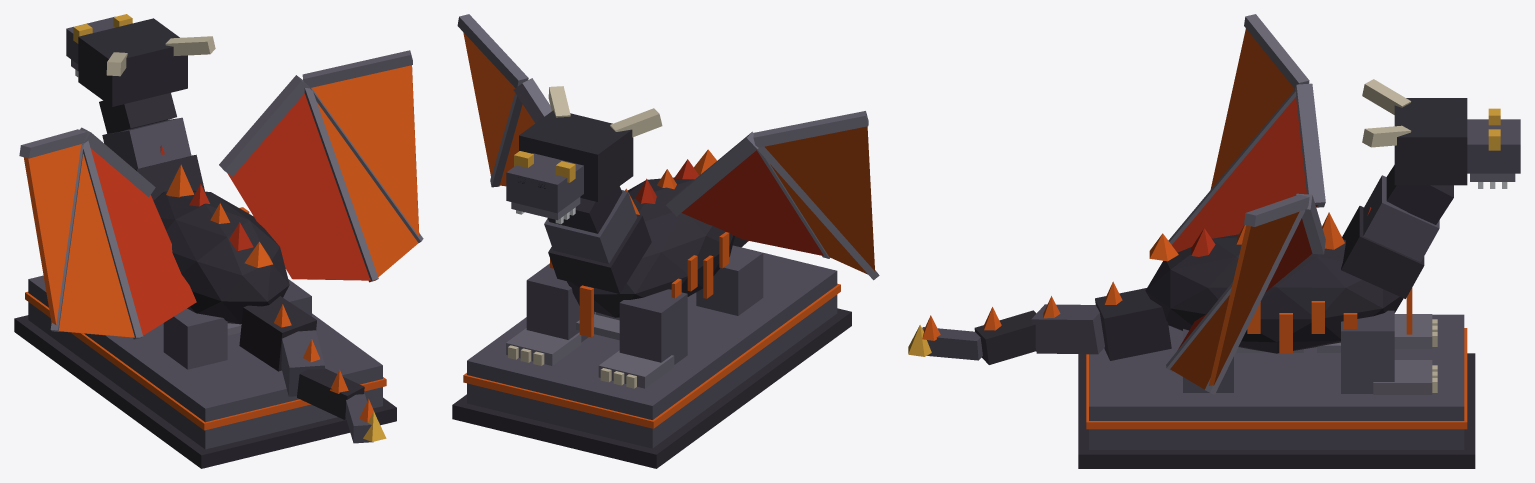
Rendered from Decor_Volcano_Dragon.fbx.
The picture shows the model from 3 angles, left to right: view 1: azimuth 30°, elevation 25°; view 2: azimuth 150°, elevation 25°; view 3: azimuth 270°, elevation 25°; orthographic projection. The views are drawn at different scales.
Parts seen in each view (by area): view 1: Dragon_Body; view 2: Dragon_Body; view 3: Dragon_Body.
Boxes of the visible parts, x1,y1,x2,y2 form: Dragon_Body: (14, 14, 423, 468); Dragon_Body: (452, 14, 879, 468); Dragon_Body: (908, 14, 1520, 468).
Size of the model in its own units: 17.78 by 12.7 by 22.6.
